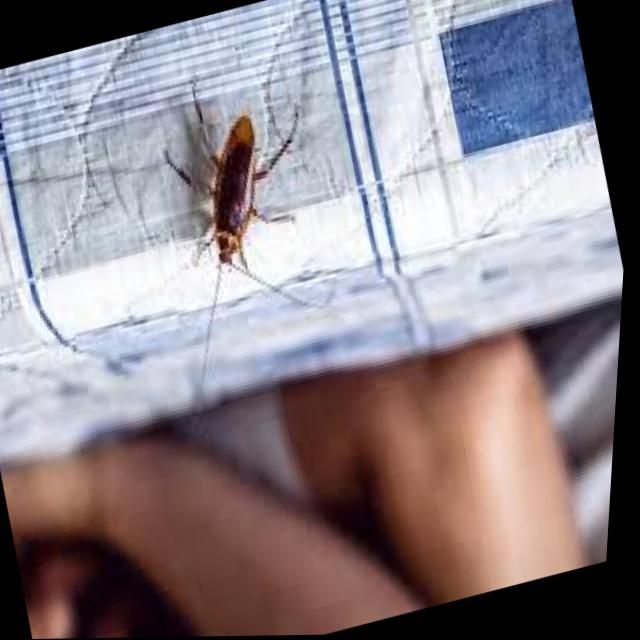Cockroach: (138, 47, 334, 337)
